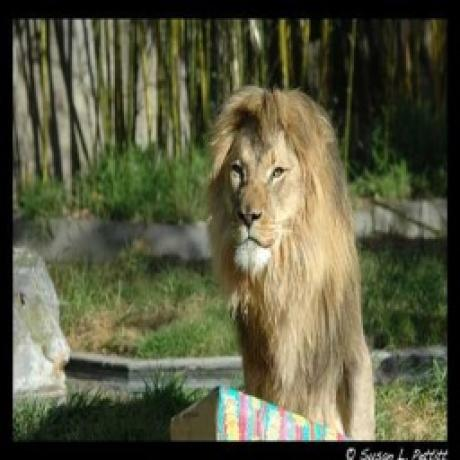Lion: (202, 85, 378, 440)
